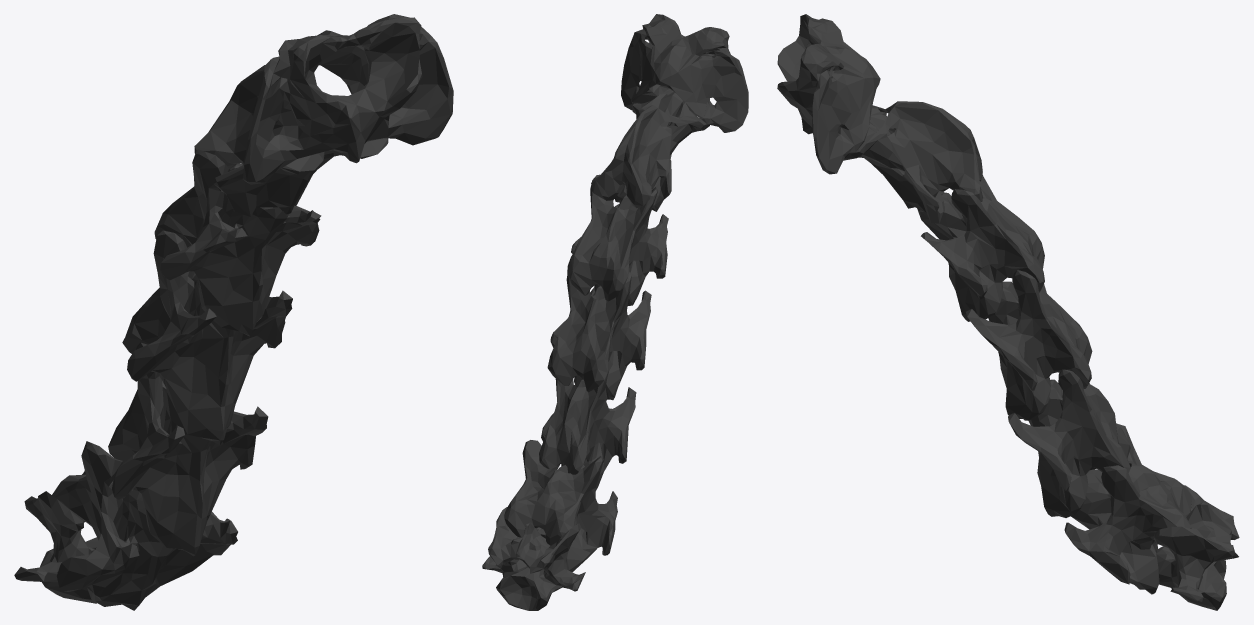
File: skel_spine_cervical.glb
3 renders of one model, left to right at view 1: azimuth 30°, elevation 25°; view 2: azimuth 150°, elevation 25°; view 3: azimuth 270°, elevation 25°, orthographic. The views are drawn at different scales.
Parts seen in each view (by area): view 1: skel_spine_cervical; view 2: skel_spine_cervical; view 3: skel_spine_cervical.
Part boxes in pixels (x1,y1,x2,y2): skel_spine_cervical: (14,14,453,610); skel_spine_cervical: (482,14,748,610); skel_spine_cervical: (777,14,1239,610).
Bounding box in the file's own units: 0.00242 × 0.00853 × 0.00622.
1 material, 1 textured.
